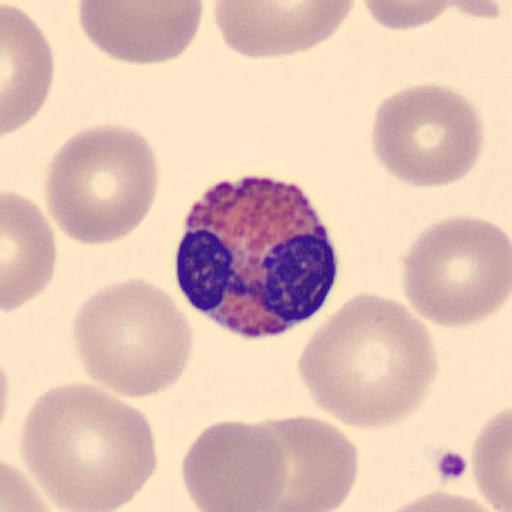RBC: (296, 291, 438, 431), (18, 379, 158, 512), (70, 275, 196, 401), (44, 122, 161, 248), (400, 214, 512, 329), (369, 80, 486, 190), (250, 413, 360, 512), (179, 417, 289, 512), (212, 0, 357, 61), (78, 0, 205, 66), (2, 3, 56, 137), (2, 191, 58, 313), (471, 405, 512, 512), (2, 461, 66, 512), (361, 0, 460, 31), (376, 489, 506, 512), (268, 491, 342, 512), (447, 0, 502, 20)
WBC: (170, 174, 342, 342)
